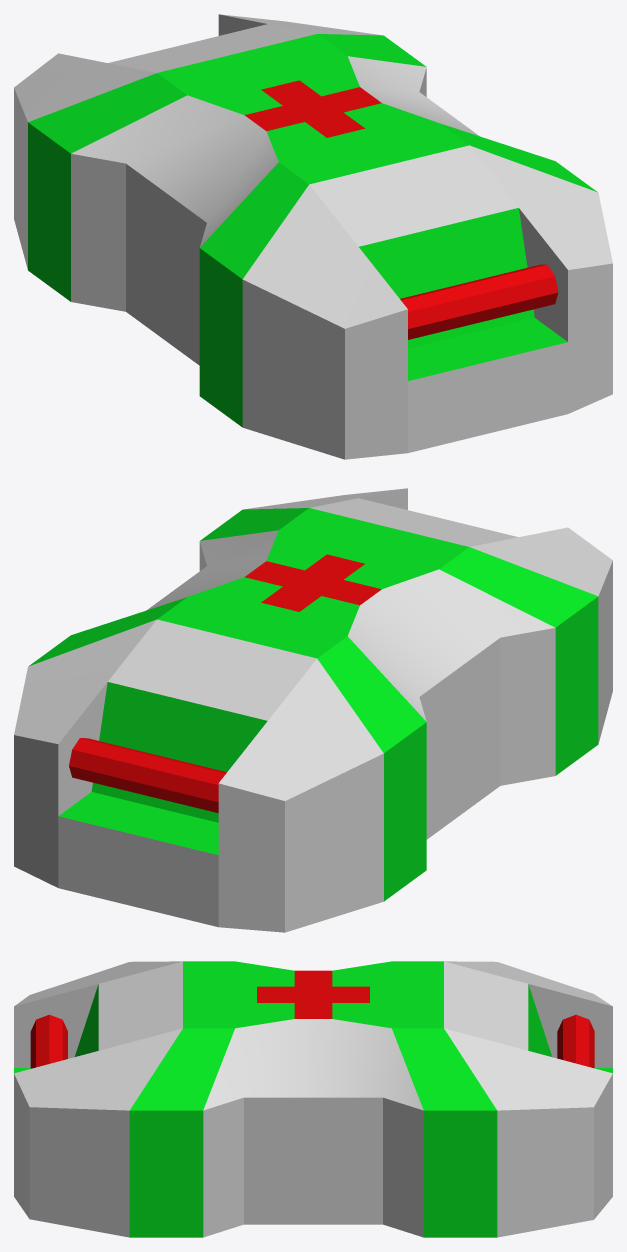
File: Medkit.fbx
3 views of the same model, one above another, from view 1: azimuth 30°, elevation 25°; view 2: azimuth 150°, elevation 25°; view 3: azimuth 270°, elevation 25° (orthographic). The views are drawn at different scales.
Visible parts, largest first — view 1: Cube; view 2: Cube; view 3: Cube.
Boxes of the visible parts, bbox=[...] form: Cube: bbox=[14, 14, 612, 459]; Cube: bbox=[14, 488, 612, 932]; Cube: bbox=[14, 961, 612, 1237].
Size of the model in its own units: 2 by 1.06 by 3.4.
